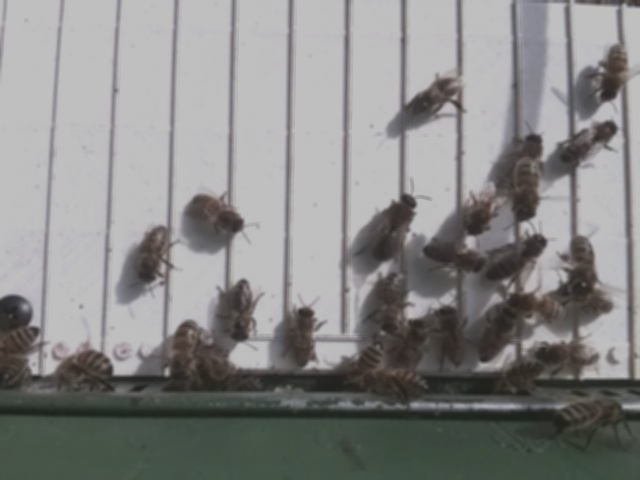Drone: (367, 188, 420, 264)
Worker: (487, 231, 550, 285), (558, 117, 622, 165), (474, 305, 521, 363), (420, 236, 489, 275), (134, 221, 173, 288), (434, 301, 471, 369), (191, 190, 245, 236), (411, 71, 465, 116), (54, 346, 116, 384), (344, 335, 386, 390), (226, 272, 258, 344), (394, 314, 431, 376), (531, 337, 605, 368), (511, 155, 544, 222), (170, 315, 199, 389), (568, 231, 599, 300), (378, 269, 409, 338), (598, 41, 631, 103), (511, 288, 567, 323), (287, 304, 318, 367), (0, 320, 44, 359)
